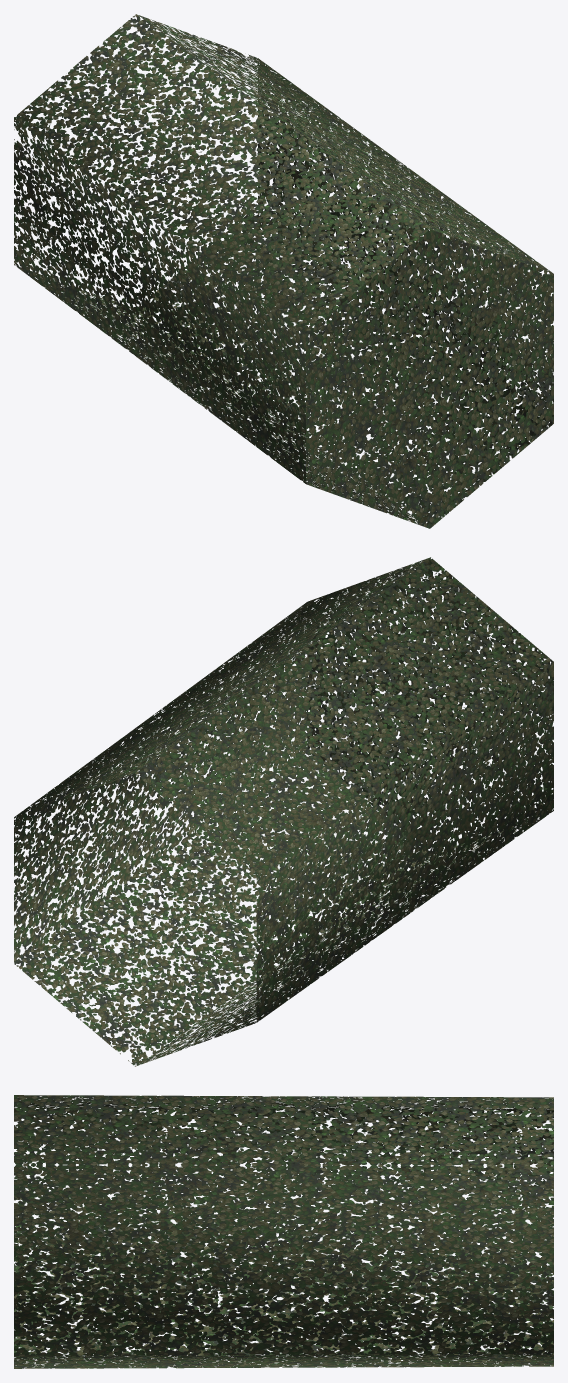
Rendered from nt_2020_foliage_hedge_rounded02_LOD3.obj.
3 views of the same model, one above another, from view 1: azimuth 30°, elevation 25°; view 2: azimuth 150°, elevation 25°; view 3: azimuth 270°, elevation 25° (orthographic). The views are drawn at different scales.
Visible parts, largest first — view 1: mtl_p6_foliage_hedge2; view 2: mtl_p6_foliage_hedge2; view 3: mtl_p6_foliage_hedge2.
Part boxes in pixels (<box>): mtl_p6_foliage_hedge2: <box>14,14,553,528</box>; mtl_p6_foliage_hedge2: <box>14,557,553,1066</box>; mtl_p6_foliage_hedge2: <box>14,1095,553,1368</box>.
Bounding box in the file's own units: 87.15 × 101 × 180.
